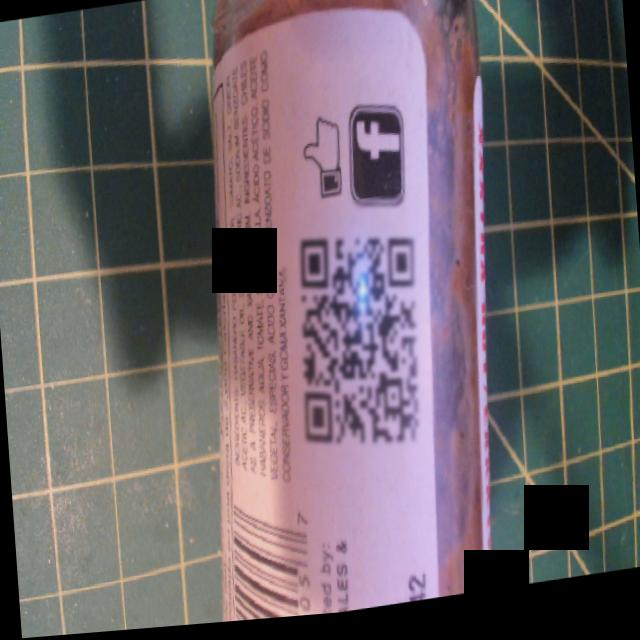QR_CODE: (278, 196, 434, 490)
